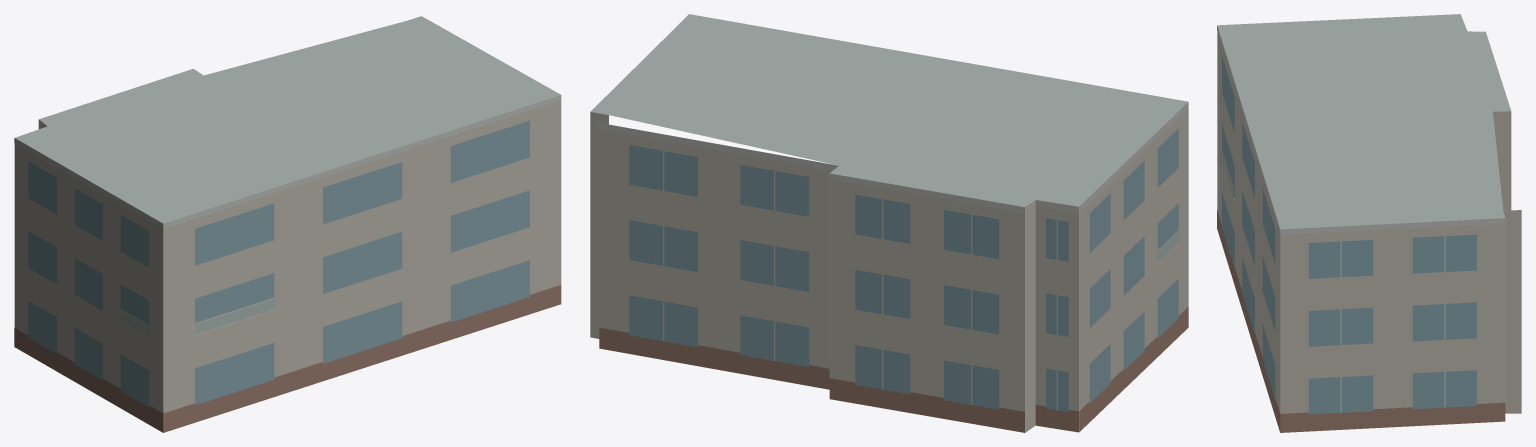
File: survey-upis-32638689.glb
3 views of the same model, side by side, from view 1: azimuth 30°, elevation 25°; view 2: azimuth 150°, elevation 25°; view 3: azimuth 270°, elevation 25° (orthographic). The views are drawn at different scales.
Parts seen in each view (by area): view 1: survey-upis-32638689.tmp; view 2: survey-upis-32638689.tmp; view 3: survey-upis-32638689.tmp.
Part boxes in pixels (x1=…): survey-upis-32638689.tmp: x1=14, y1=16, x2=561, y2=432; survey-upis-32638689.tmp: x1=590, y1=14, x2=1188, y2=432; survey-upis-32638689.tmp: x1=1217, y1=14, x2=1521, y2=432.
Bounding box in the file's own units: 20.68 × 9.1 × 12.36.
